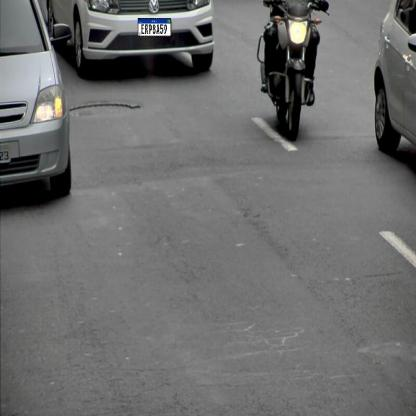PlacaM: (138, 18, 171, 37)
